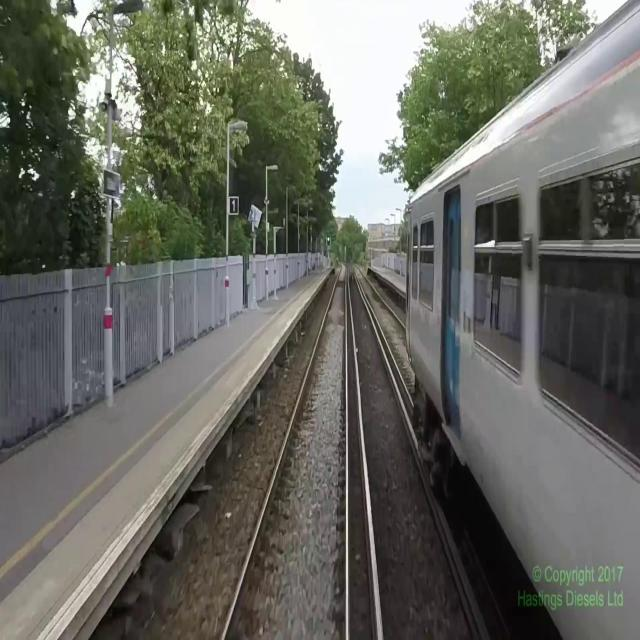rail-track: (224, 263, 345, 639), (354, 264, 411, 395)
